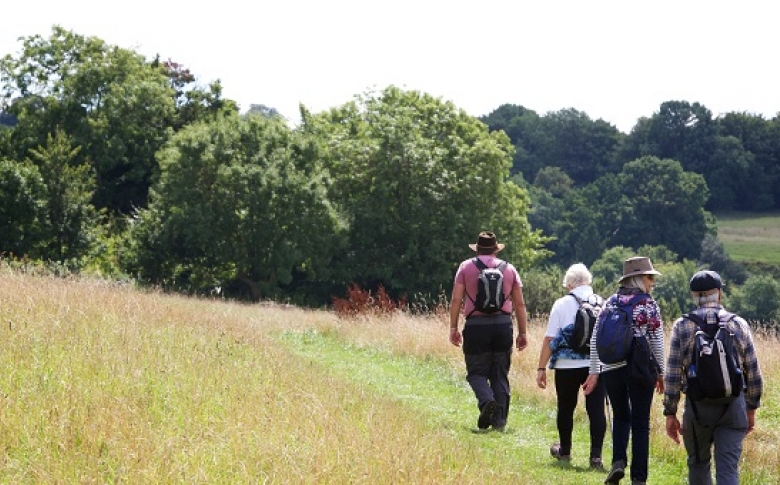Person: (429, 218, 539, 451), (657, 264, 771, 485), (585, 252, 671, 485), (534, 249, 618, 485)
